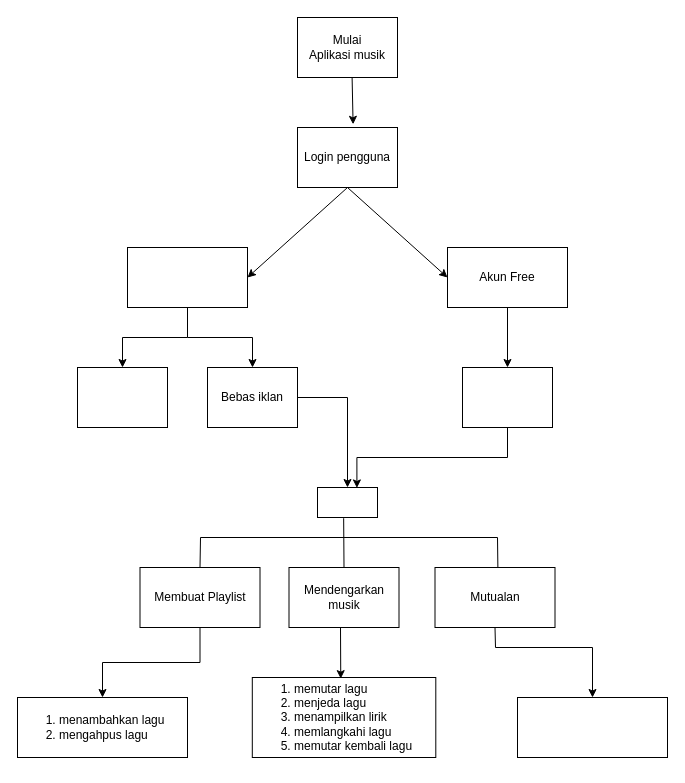
Some shapes in this 685 by 783 pixel diagram are drawn without their labels. Here are the shapes that lost their labels. From the top down, the centre of each, then its label:
pixel 187 277: Akun premium
pixel 122 397: Mendengearkan lagu secara offline
pixel 507 397: iklan
pixel 347 502: beranda
pixel 592 727: mencari pengguna mengikuti pengguna lain
